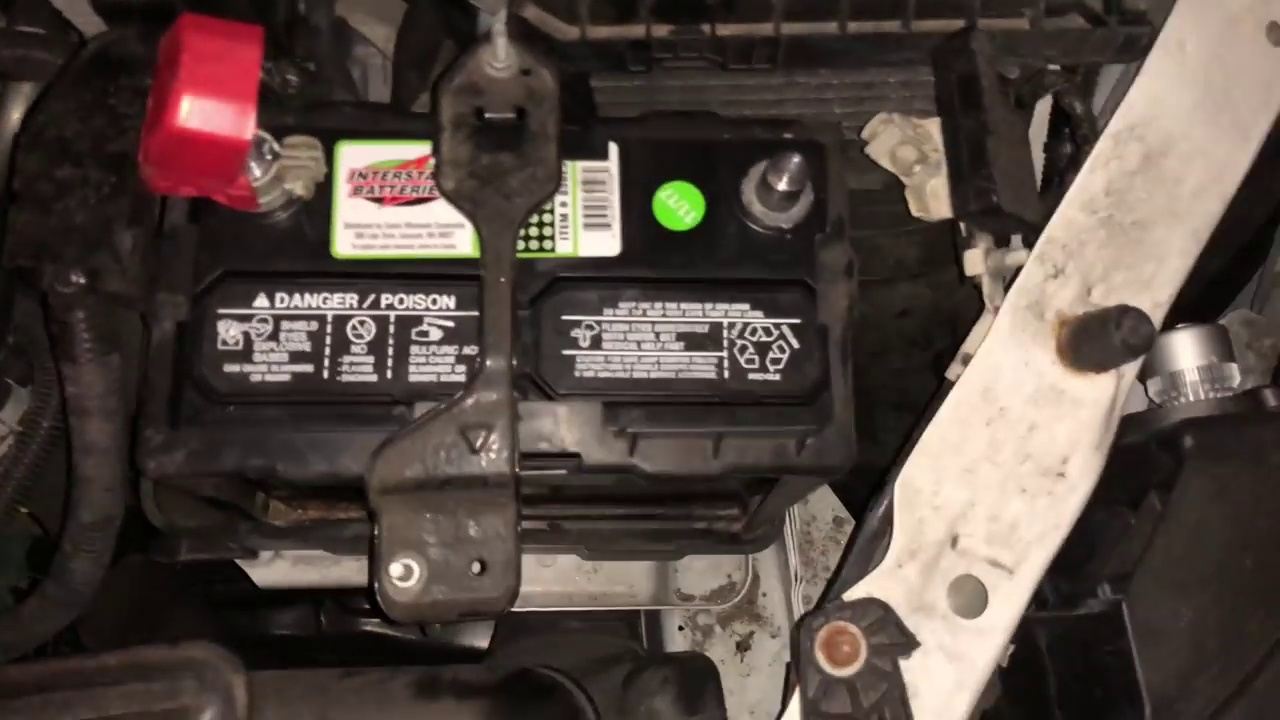battery: (158, 95, 844, 428)
neg_disconnected: (709, 138, 869, 248)
pos_connected: (114, 36, 349, 221)
